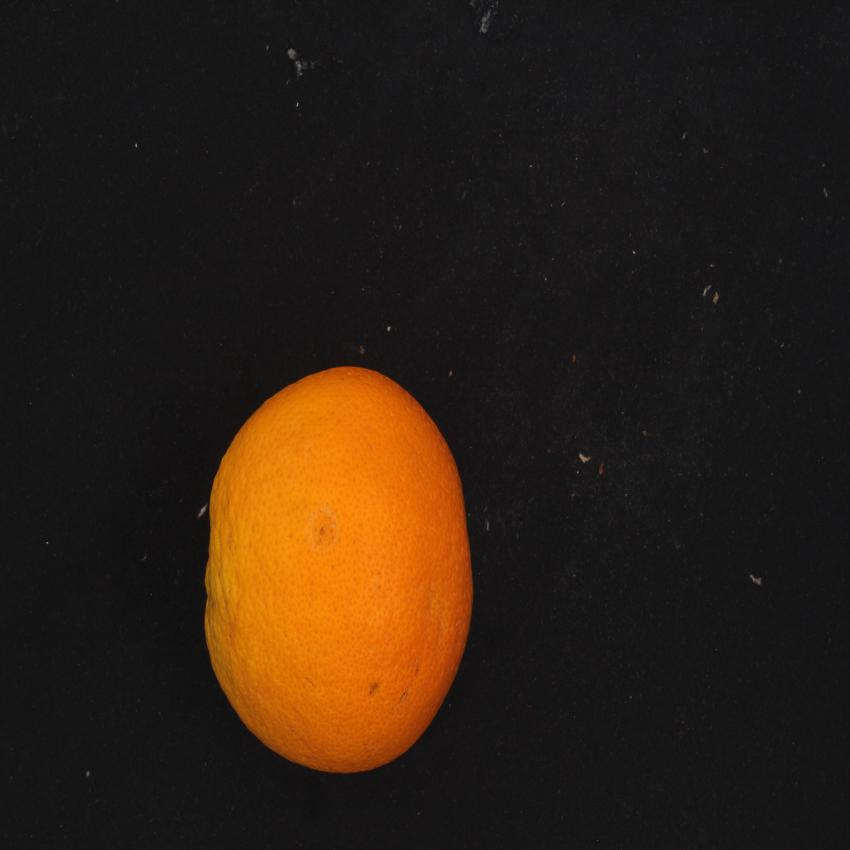Buen estado: (190, 344, 498, 798)
